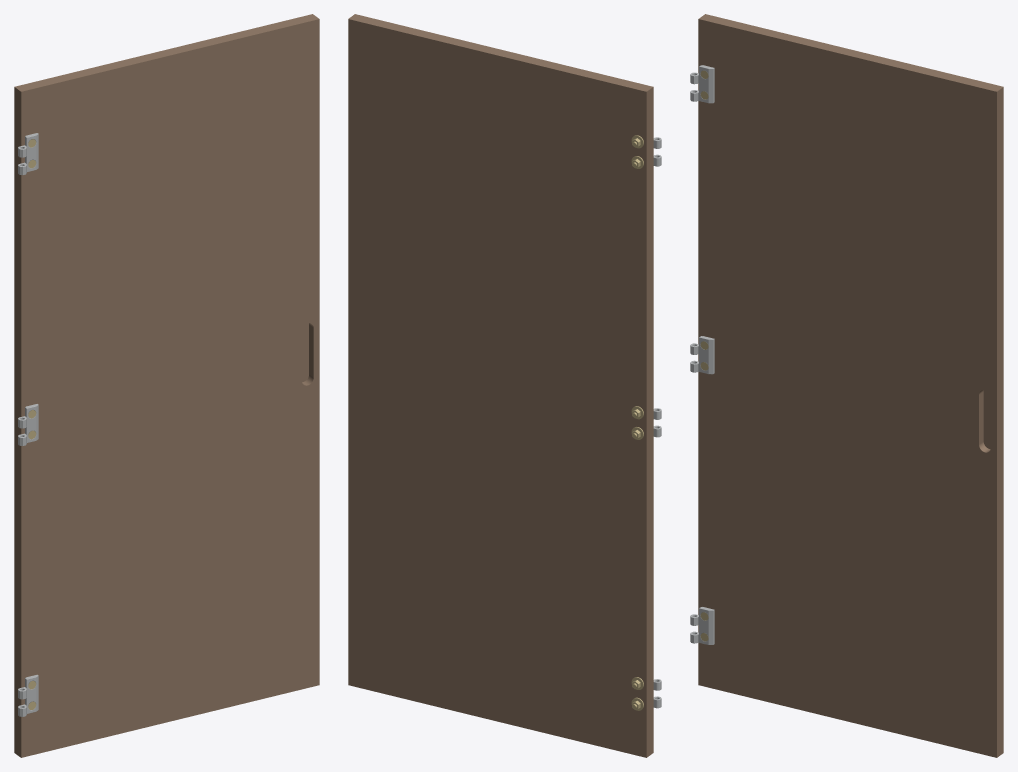
File: left-door.glb
3 renders of one model, left to right at view 1: azimuth 30°, elevation 25°; view 2: azimuth 150°, elevation 25°; view 3: azimuth 330°, elevation 25°, orthographic.
Visible parts, largest first — view 1: Left-door-face-18, Left-hinge-1-3025-1, Left-hinge-3-3025-1, Left-hinge-2-3025-1; view 2: Left-door-face-18; view 3: Left-door-face-18, Left-hinge-2-3025-1, Left-hinge-3-3025-1, Left-hinge-1-3025-1.
Boxes of the visible parts, x1,y1,x2,y2 form: Left-door-face-18: (14,14,319,757); Left-hinge-1-3025-1: (18,674,38,716); Left-hinge-3-3025-1: (18,133,38,175); Left-hinge-2-3025-1: (18,404,38,445); Left-door-face-18: (348,14,653,757); Left-door-face-18: (698,14,1003,757); Left-hinge-2-3025-1: (690,336,714,374); Left-hinge-3-3025-1: (690,65,714,103); Left-hinge-1-3025-1: (690,607,714,644).
Bounding box in the file's own units: 0.4595 × 0.964 × 0.0405.
